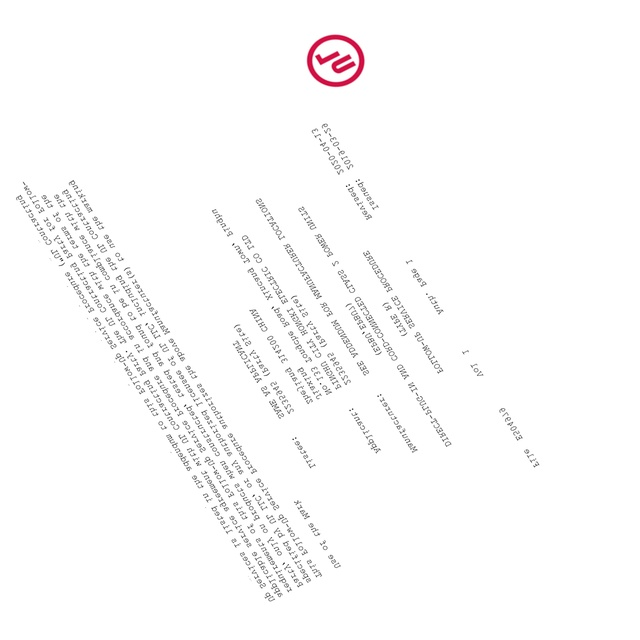ul: (305, 34, 364, 86)
